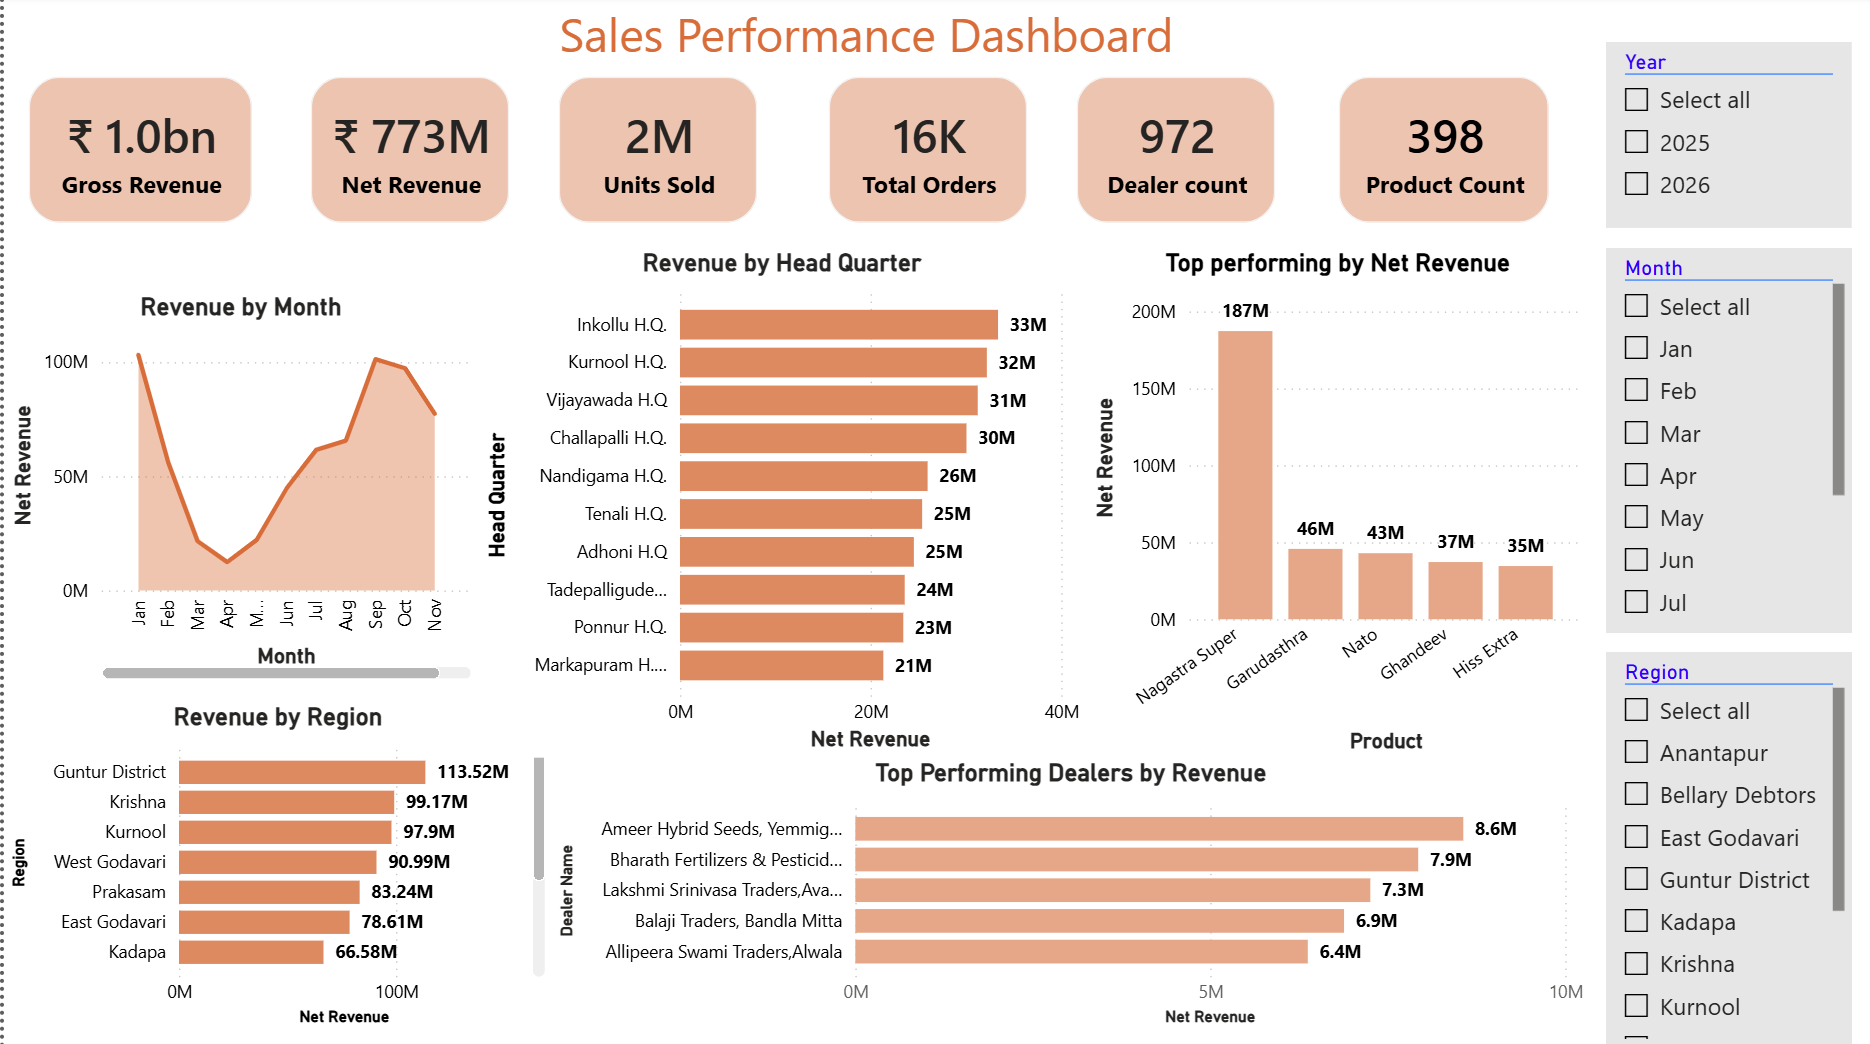

The page's visual inventory and layout, read from the dashboard file:
{"tool":"powerbi","page":{"name":"Page 1","canvas":[1280,720],"ordinal":0},"visuals":[{"type":"cardVisual","fields":{"Data":["_measures.Gross Revenue"]},"box":[0,39.8,187.9,134.4],"z":0},{"type":"cardVisual","fields":{"Data":["_measures.Net Revenue"]},"box":[193.4,39.8,170.1,134.4],"z":1000},{"type":"cardVisual","fields":{"Data":["_measures.Product Count"]},"box":[898.3,39.8,178.3,134.4],"z":2000},{"type":"cardVisual","fields":{"Data":["_measures.Dealer count"]},"box":[718.6,39.8,170.1,134.4],"z":3000},{"type":"cardVisual","fields":{"Data":["_measures.Total Ordes"]},"box":[548.6,39.8,170.1,134.4],"z":4000},{"type":"cardVisual","fields":{"Data":["_measures.Units Sold"]},"box":[363.4,39.8,170.1,134.4],"z":5000},{"type":"textbox","box":[375.8,0,453.9,54.9],"z":6000},{"type":"lineChart","title":"Revenue by Month","fields":{"Category":["date_table.month"],"Y":["_measures.Net Revenue"]},"box":[0,204.3,325,270.2],"z":7000},{"type":"barChart","title":"Revenue by Region","fields":{"Category":["regions.region"],"Y":["_measures.Net Revenue"]},"box":[0,485.5,375.8,226.3],"z":8000},{"type":"barChart","title":"Revenue by Head Quarter","fields":{"Category":["regions.head_quarter"],"Y":["_measures.Net Revenue"]},"box":[325,174.2,416.9,349.7],"z":9000},{"type":"columnChart","title":"Top performing by Net Revenue","fields":{"Category":["products.Parent"],"Y":["_measures.Net Revenue"]},"box":[741.9,174.2,345.6,351.1],"z":10000},{"type":"slicer","fields":{"Values":["date_table.Year"]},"box":[1098.5,32.9,168.7,127.5],"z":11000},{"type":"slicer","fields":{"Values":["date_table.month"]},"box":[1098.5,174.2,168.7,263.3],"z":12000},{"type":"slicer","fields":{"Values":["regions.region"]},"box":[1098.5,451.2,168.7,270.2],"z":13000},{"type":"clusteredBarChart","title":"Top Performing Dealers by Revenue","fields":{"Category":["ledgers.dealer_name"],"Y":["_measures.Net Revenue"]},"box":[375.8,523.9,711.8,187.9],"z":14000}]}

Visuals, with their boxes in screenshot pixels (x1, y1, x2, y2), scaled from the page's 1280x720 canvas onto the 1870x1044 screenshot:
cardVisual - _measures.Gross Revenue: <box>0,58,275,253</box>
cardVisual - _measures.Net Revenue: <box>283,58,531,253</box>
cardVisual - _measures.Product Count: <box>1312,58,1573,253</box>
cardVisual - _measures.Dealer count: <box>1050,58,1298,253</box>
cardVisual - _measures.Total Ordes: <box>801,58,1050,253</box>
cardVisual - _measures.Units Sold: <box>531,58,779,253</box>
textbox: <box>549,0,1212,80</box>
"Revenue by Month" lineChart: <box>0,296,475,688</box>
"Revenue by Region" barChart: <box>0,704,549,1032</box>
"Revenue by Head Quarter" barChart: <box>475,253,1084,760</box>
"Top performing by Net Revenue" columnChart: <box>1084,253,1589,762</box>
slicer - date_table.Year: <box>1605,48,1851,233</box>
slicer - date_table.month: <box>1605,253,1851,634</box>
slicer - regions.region: <box>1605,654,1851,1043</box>
"Top Performing Dealers by Revenue" clusteredBarChart: <box>549,760,1589,1032</box>
